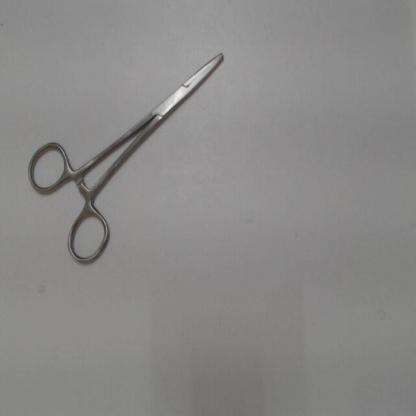Mayo Needle Holder: (18, 34, 246, 271)
